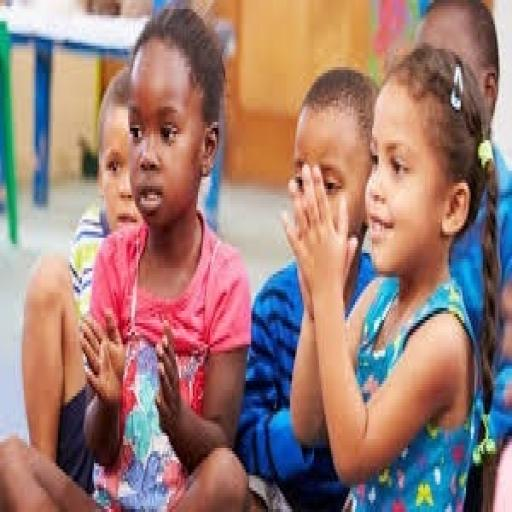clapping: (50, 16, 299, 470), (282, 43, 495, 509)
